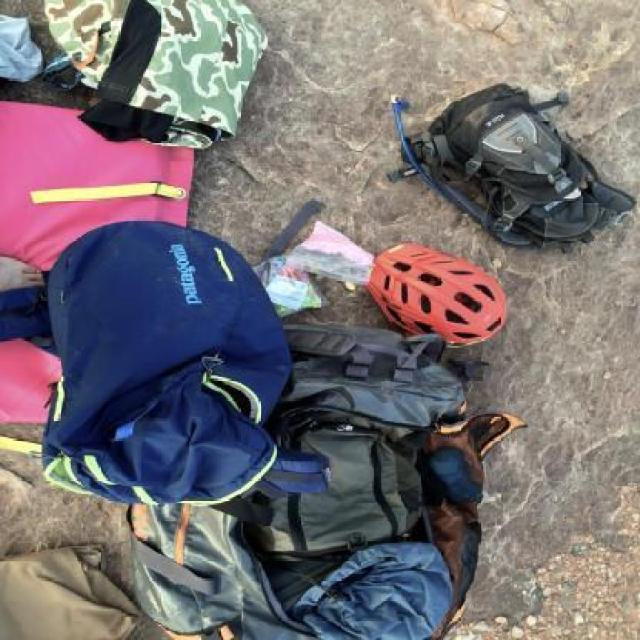backpack: (31, 217, 298, 514), (396, 77, 636, 252), (26, 0, 277, 151), (278, 323, 482, 439)
